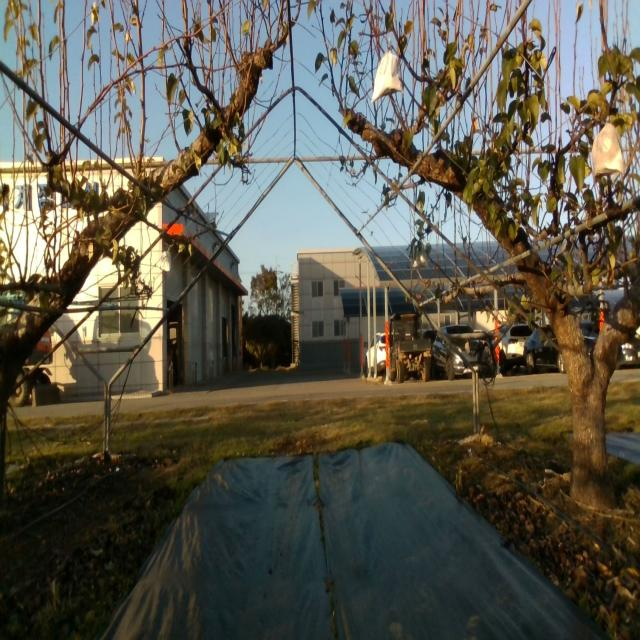pearbags: (370, 39, 404, 104), (593, 119, 624, 186), (412, 247, 428, 269), (159, 250, 172, 272)
